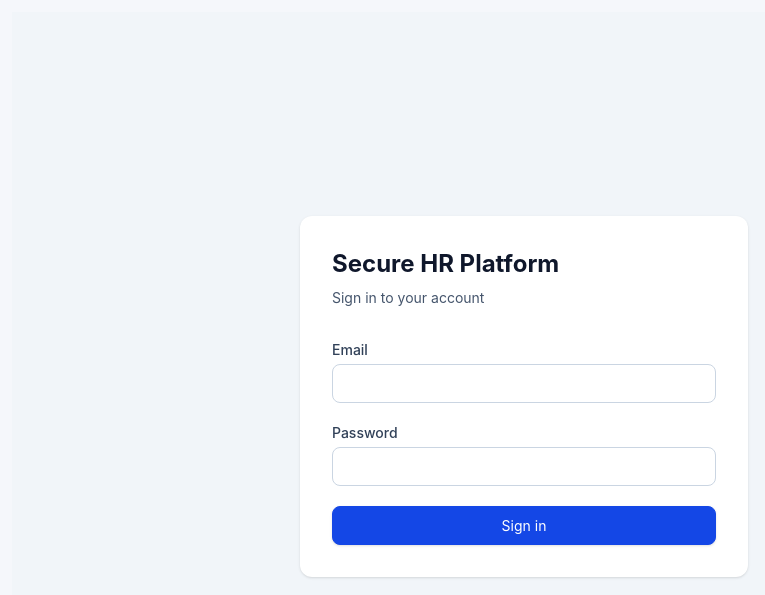
LoginPage › logs in successfully and redirects to the dashboard
Type "admin@example.com" into the field labelled "Email".
click(524, 383); type("admin@example.com")  # box [332,364,716,402]
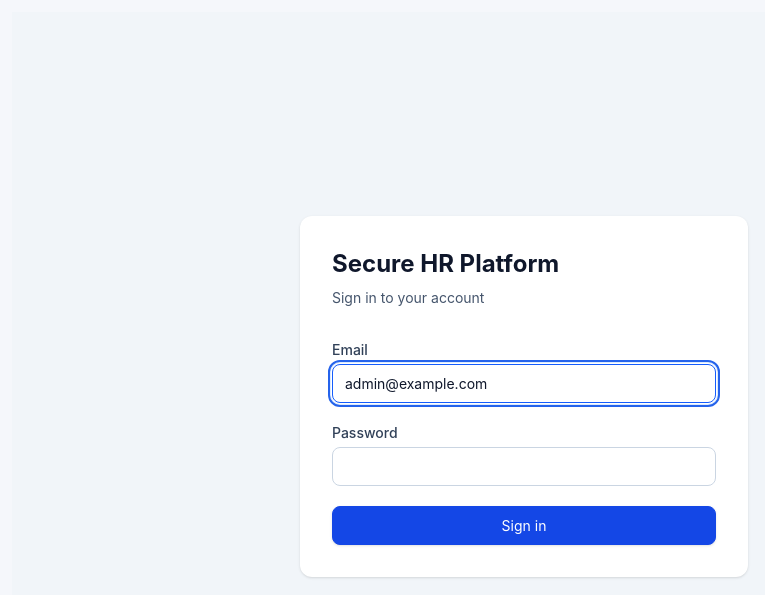
Type "SecurePassword123!" into the password field labelled "Password".
click(524, 466); type("SecurePassword123!")  # box [332,446,716,486]
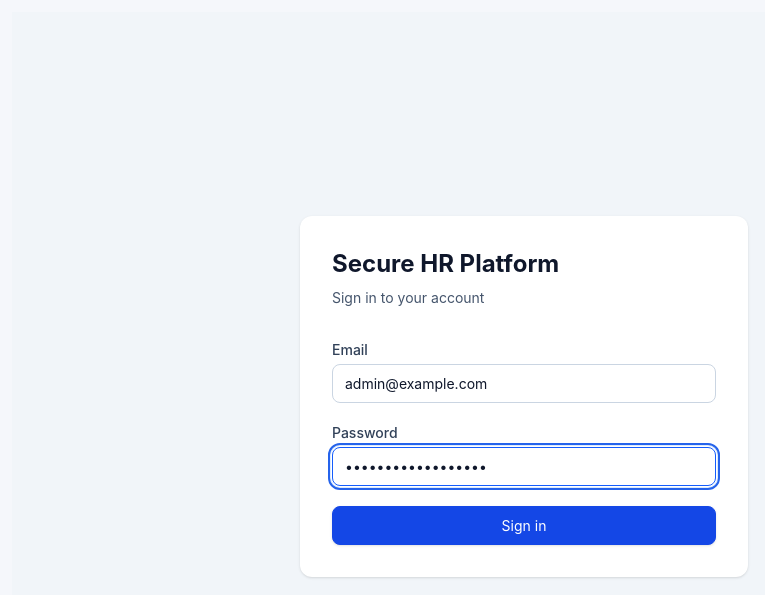
Click the button "Sign in".
click(524, 525)  # box [332,506,716,544]
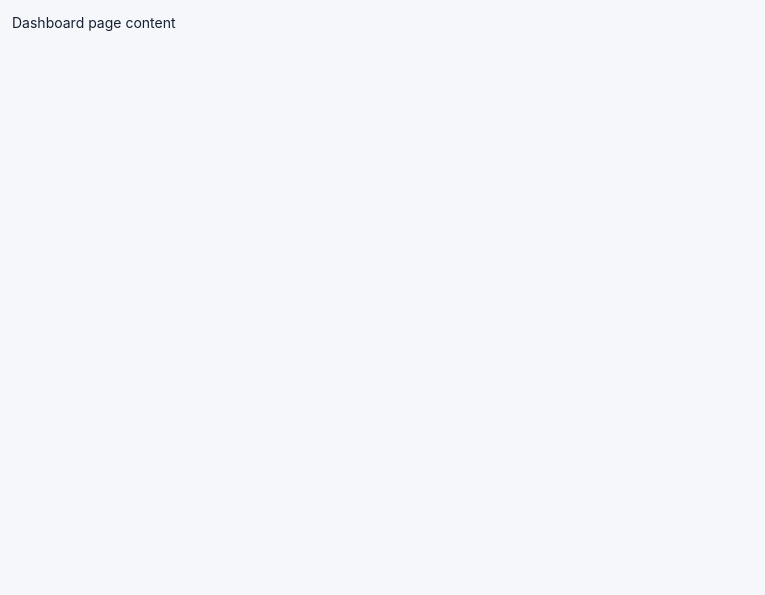
Result: the text "Dashboard page content" is shown at [12,14,176,31]
